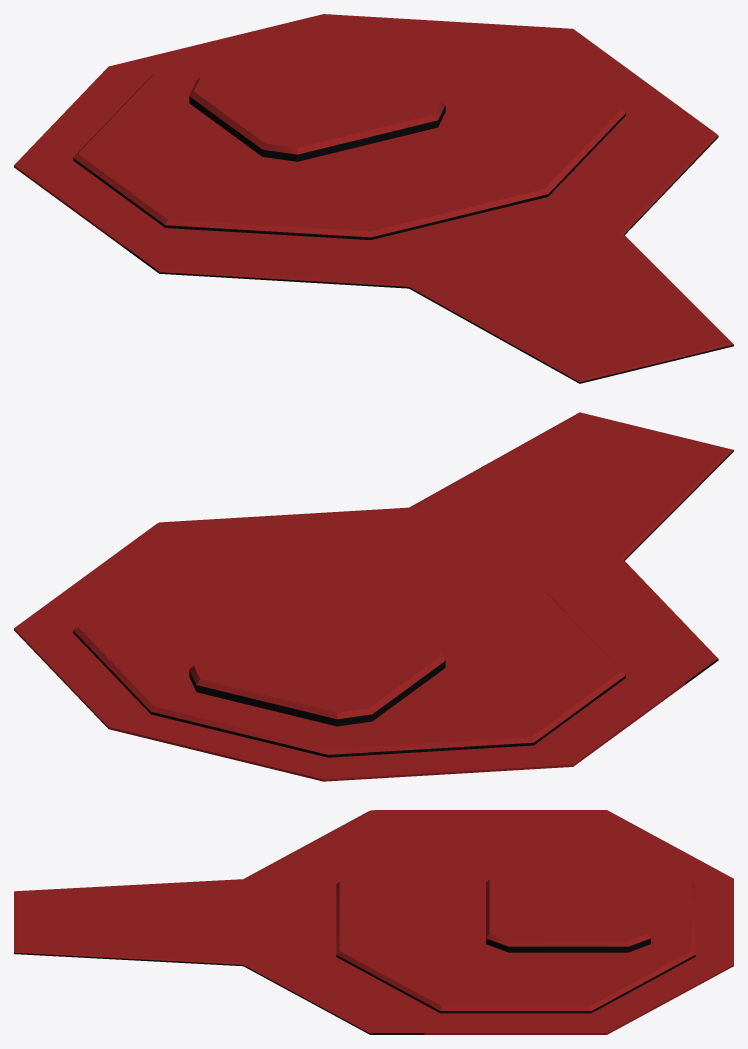
The model's file is pedestal_01.fbx.
3 views of the same model, one above another, from view 1: azimuth 30°, elevation 25°; view 2: azimuth 150°, elevation 25°; view 3: azimuth 270°, elevation 25° (orthographic). The views are drawn at different scales.
Visible parts, largest first — view 1: pedestal; view 2: pedestal; view 3: pedestal.
Part boxes in pixels (x1,y1,x2,y2): pedestal: [14, 14, 733, 383]; pedestal: [14, 412, 733, 781]; pedestal: [14, 810, 733, 1034].
Bounding box in the file's own units: 8.63 × 0.3041 × 11.78.
